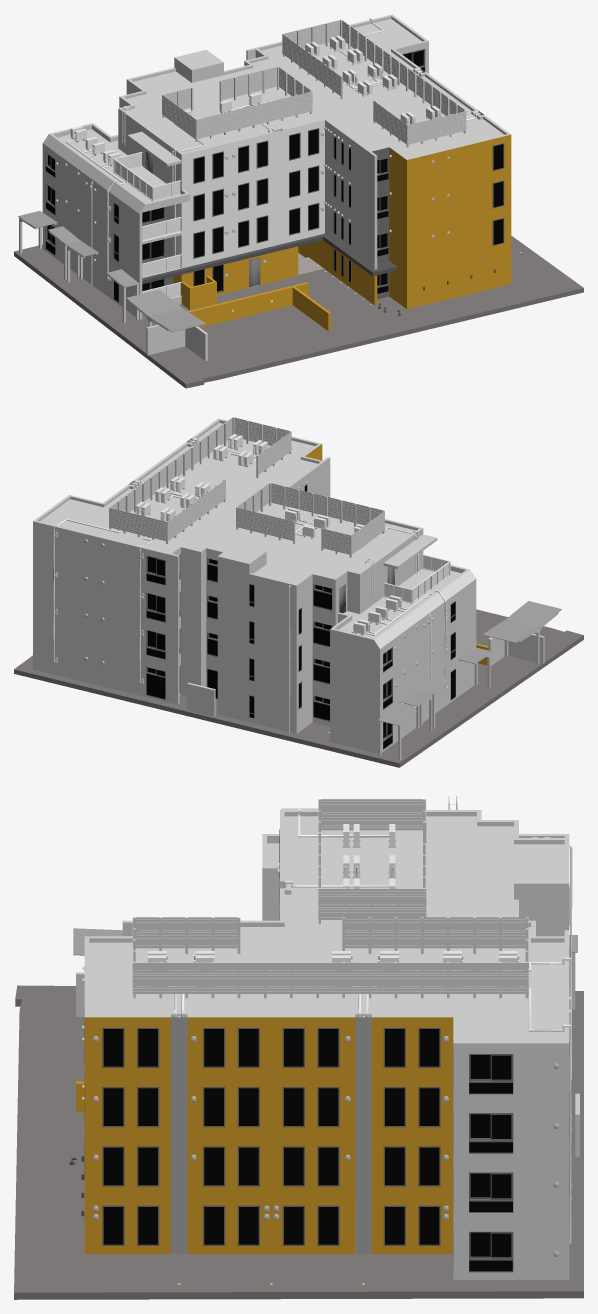
Rendered from higashi_shinjuku.glb.
The picture shows the model from 3 angles, top to bottom: view 1: azimuth 30°, elevation 25°; view 2: azimuth 150°, elevation 25°; view 3: azimuth 270°, elevation 25°; orthographic projection. The views are drawn at different scales.
Visible parts, largest first — view 1: 1F_others, 4F_others, 1F_floor, RF_others, 2F_others, 3F_others, RF_floor, 4F_floor; view 2: 1F_others, 4F_others, RF_others, 2F_others, 3F_others, RF_floor, 1F_floor, 4F_floor; view 3: RF_floor, RF_others, 1F_floor, 4F_others, 1F_others, 2F_others, 3F_others.
Part boxes in pixels (x1=…): 1F_others: x1=14, y1=211, x2=583, y2=388; 4F_others: x1=43, y1=41, x2=511, y2=213; 1F_floor: x1=14, y1=236, x2=583, y2=383; RF_others: x1=118, y1=14, x2=510, y2=159; 2F_others: x1=42, y1=177, x2=511, y2=285; 3F_others: x1=42, y1=143, x2=511, y2=247; RF_floor: x1=126, y1=19, x2=504, y2=158; 4F_floor: x1=58, y1=129, x2=165, y2=202; 1F_others: x1=14, y1=601, x2=583, y2=767; 4F_others: x1=33, y1=438, x2=475, y2=648; RF_others: x1=33, y1=417, x2=422, y2=597; 2F_others: x1=33, y1=598, x2=476, y2=719; 3F_others: x1=33, y1=561, x2=476, y2=682; RF_floor: x1=40, y1=423, x2=415, y2=583; 1F_floor: x1=14, y1=609, x2=583, y2=763; 4F_floor: x1=339, y1=569, x2=460, y2=637; RF_floor: x1=89, y1=816, x2=569, y2=1041; RF_others: x1=84, y1=796, x2=571, y2=1043; 1F_floor: x1=14, y1=985, x2=583, y2=1292; 4F_others: x1=82, y1=808, x2=572, y2=1106; 1F_others: x1=14, y1=928, x2=583, y2=1299; 2F_others: x1=82, y1=898, x2=572, y2=1225; 3F_others: x1=82, y1=879, x2=571, y2=1166.
Bounding box in the file's own units: 27.79 × 11.6 × 21.79.
